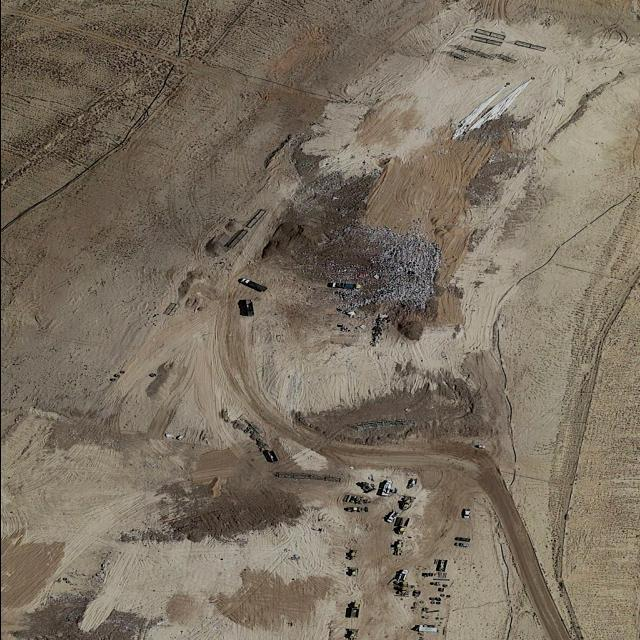dump_site: (302, 223, 446, 352), (341, 493, 369, 506), (342, 507, 370, 513)
